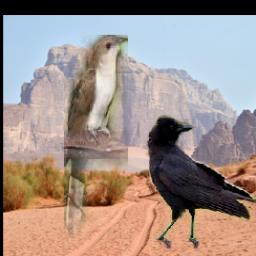Crow: (145, 115, 256, 248)
Cuckoo: (65, 36, 129, 240)
